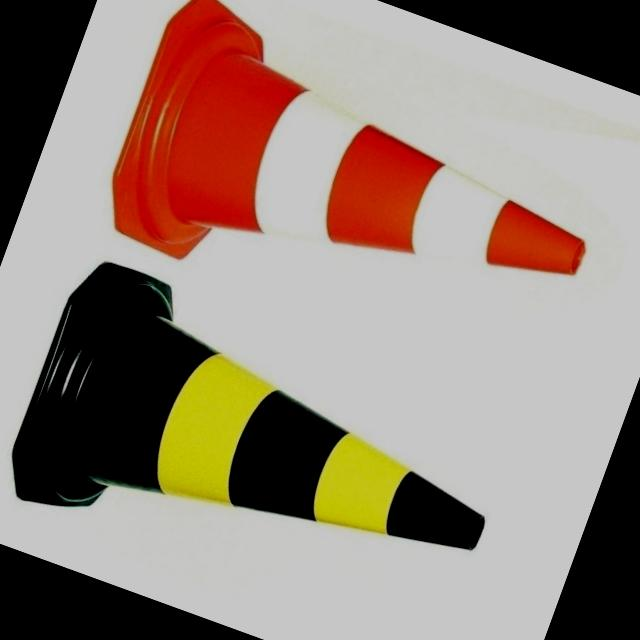cone: (0, 237, 536, 640), (82, 0, 621, 390)
